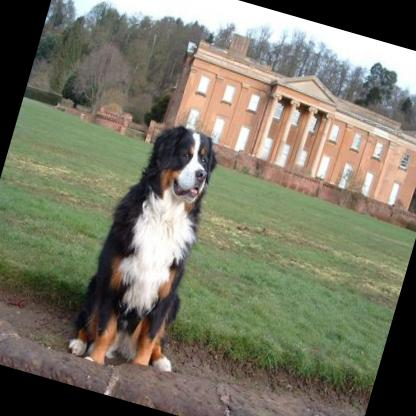Bernese_mountain_dog: (66, 113, 240, 387)
